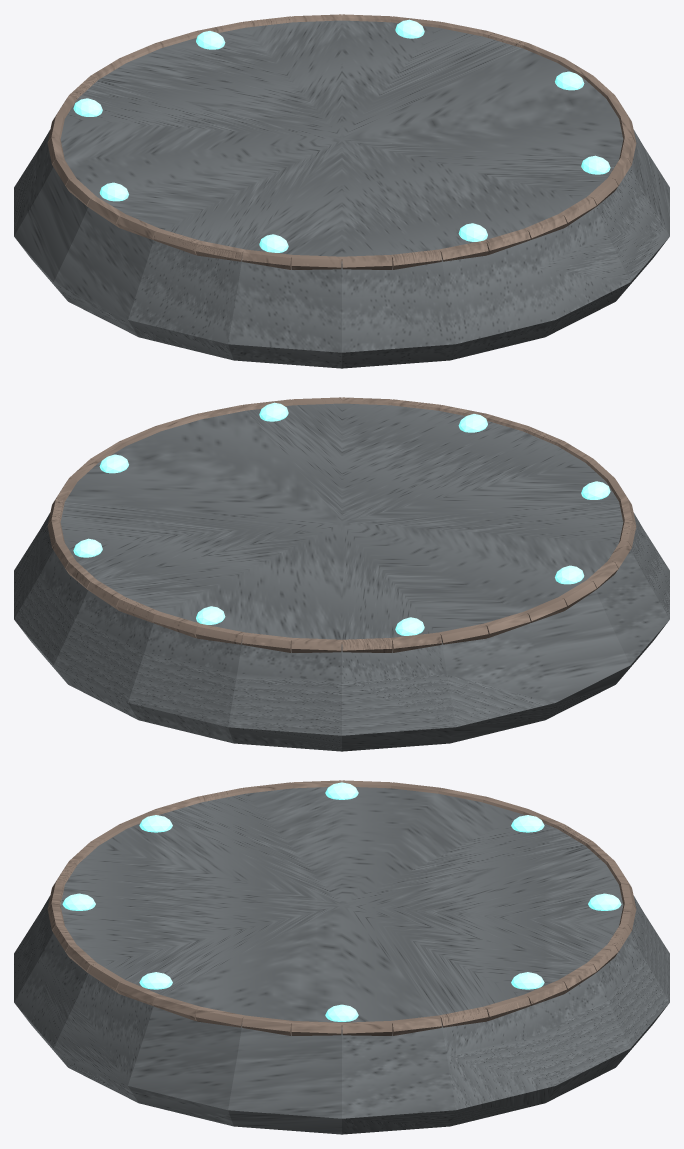
The model's file is mana_well.glb.
3 views of the same model, one above another, from view 1: azimuth 30°, elevation 25°; view 2: azimuth 150°, elevation 25°; view 3: azimuth 270°, elevation 25° (orthographic).
Visible parts, largest first — view 1: stone, bronze, glowcyan; view 2: stone, bronze, glowcyan; view 3: stone, bronze, glowcyan.
Boxes of the visible parts, x1,y1,x2,y2 form: stone: (14, 20, 669, 368); bronze: (47, 14, 636, 269); glowcyan: (73, 19, 610, 252); stone: (14, 403, 669, 751); bronze: (47, 397, 636, 652); glowcyan: (73, 402, 610, 635); stone: (14, 787, 669, 1134); bronze: (47, 780, 636, 1035); glowcyan: (62, 782, 621, 1021).
Bounding box in the file's own units: 4.74 × 0.83 × 4.67.
Materials: 3 (3 with a texture image).
